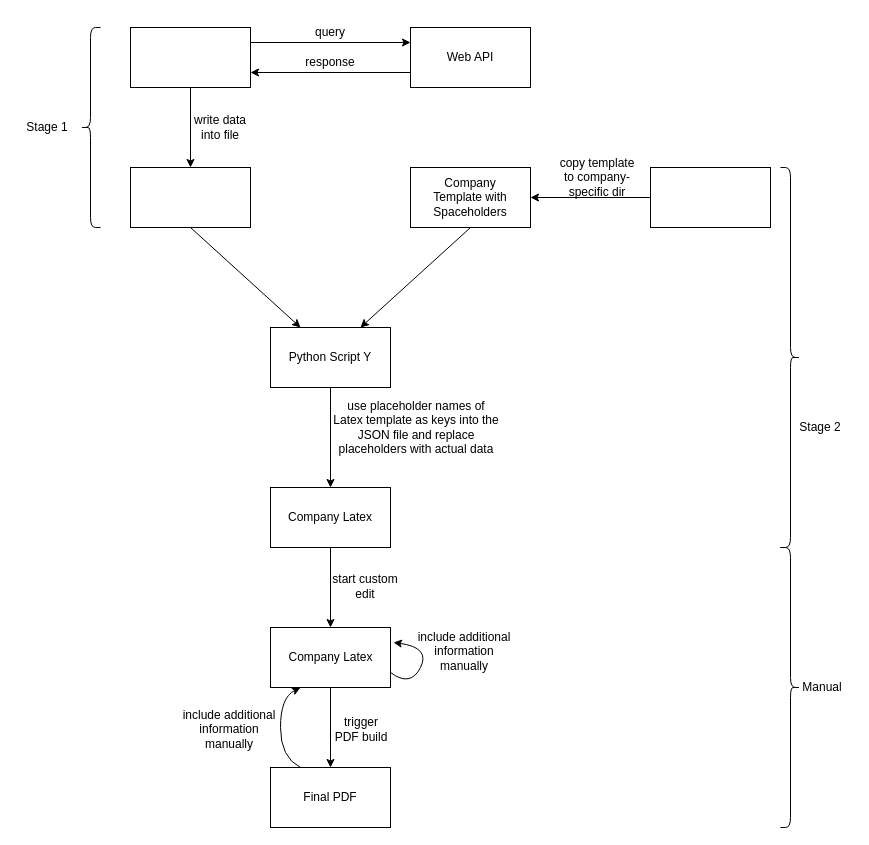
Image size: 869x845. Some labels were removed from this diagram. Each missing label, with the centre of its shape:
JSON: pixel 190 197
Latex Template: pixel 710 197
Python Script X: pixel 190 57
